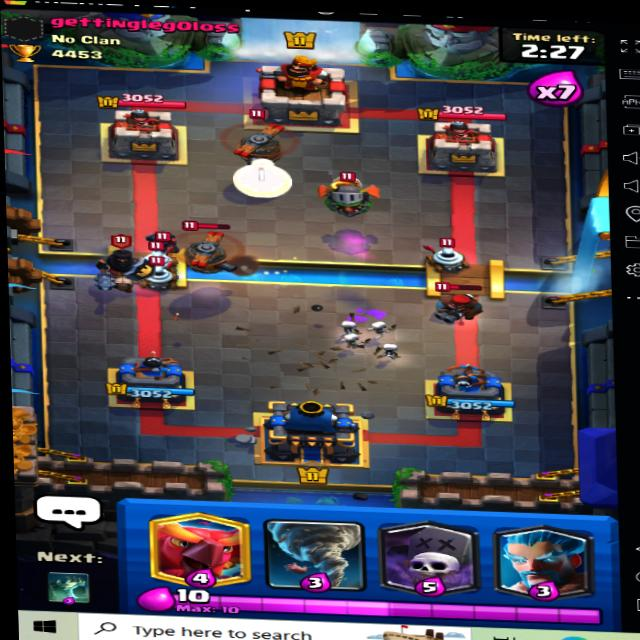dark-prince: (84, 234, 157, 289)
flying-machine: (164, 218, 267, 278), (213, 110, 296, 164)
hunter: (425, 284, 495, 330)
inferno-dragon: (300, 168, 385, 218)
mini-pekka: (132, 219, 203, 259)
zappie: (421, 233, 472, 271), (141, 237, 192, 271), (137, 257, 184, 292)
